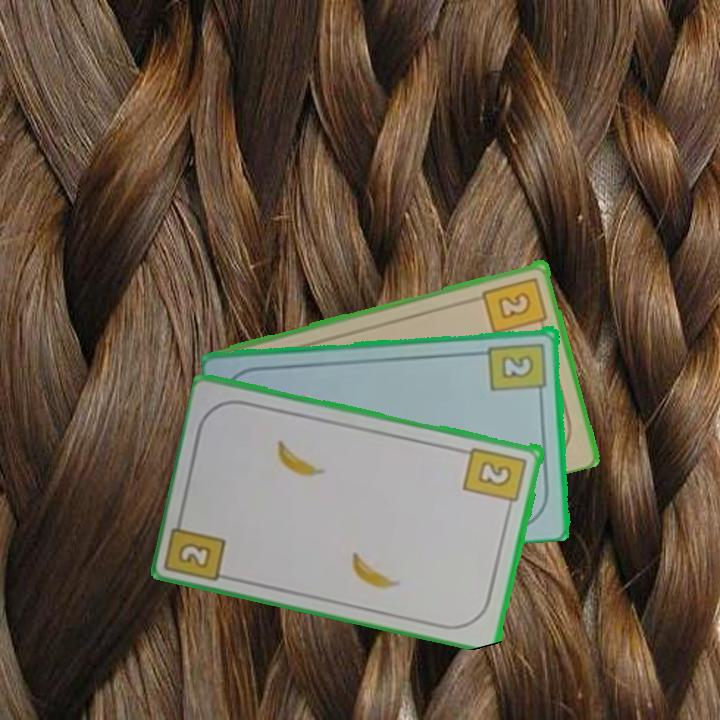2b: (461, 443, 530, 513), (480, 273, 550, 336), (486, 339, 550, 400), (175, 538, 215, 571)
